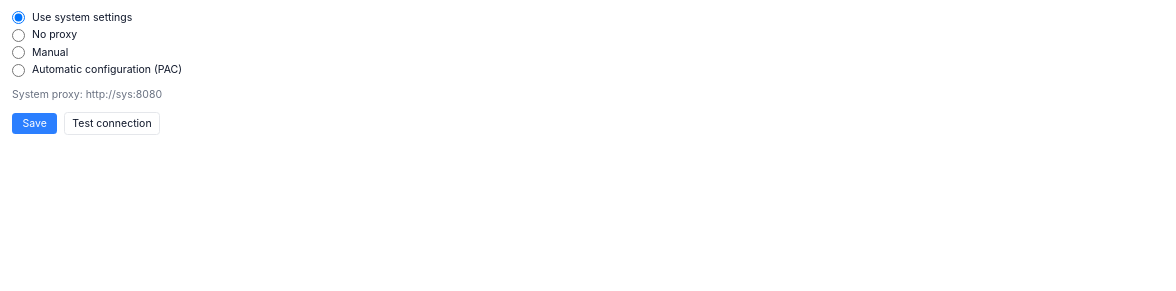
Test case: ProxySection › shows the system proxy, then saves a manual one without touching the saved password
The width and height of the screenshot is (1176, 291).
expect the text with test id "proxy-system" shows "http://sys:8080": met, box [12,88,162,100]
Click the radio button labelled "Manual" at (18, 52), box [12,46,25,59]
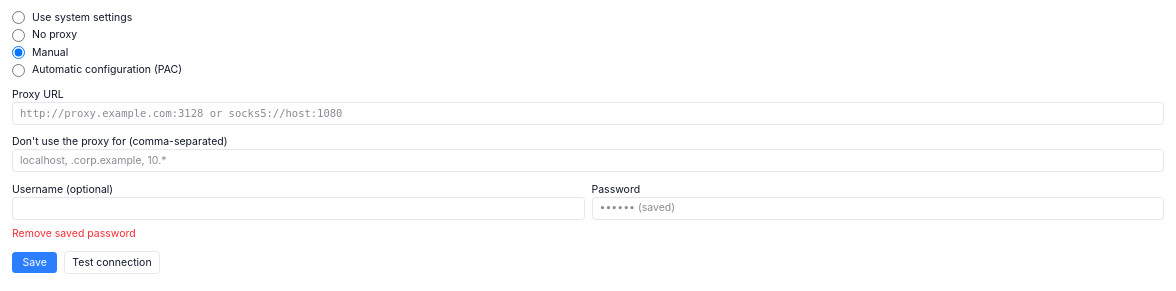
Type "http://proxy.example:3128" into the field labelled "Proxy URL" at (588, 113), box [12,102,1164,124]
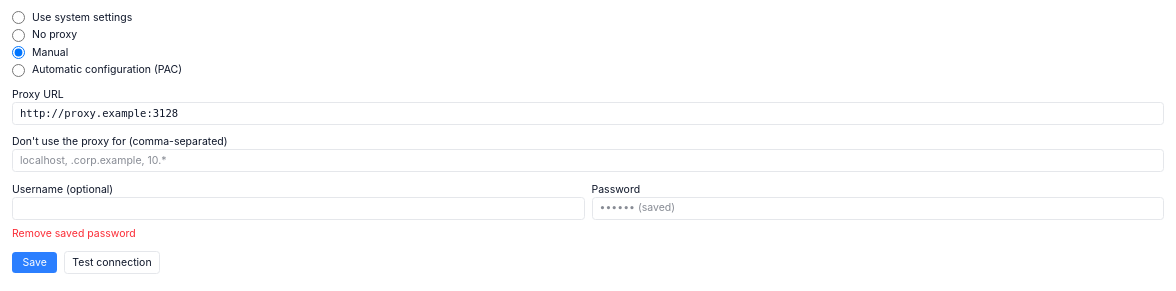
Type "localhost, .corp" into the field labelled "Don't use the proxy for (comma-separated)" at (588, 160), box [12,149,1164,172]
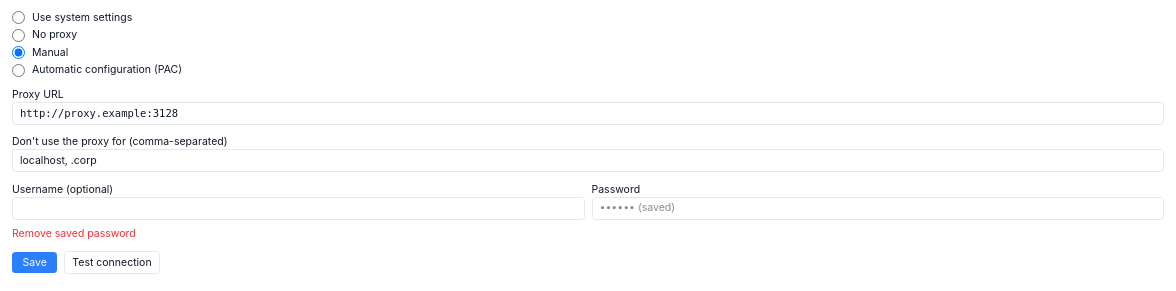
Click the button "Save" at (35, 262), box [12,252,57,273]
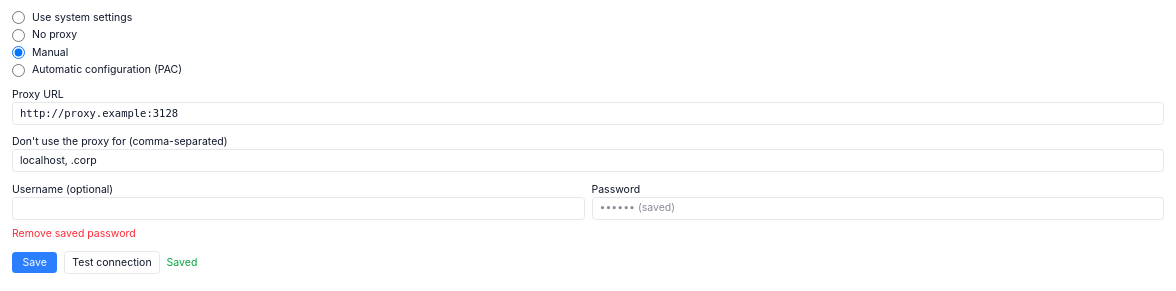
expect the text "Saved" is shown: met, box [167,256,197,270]
